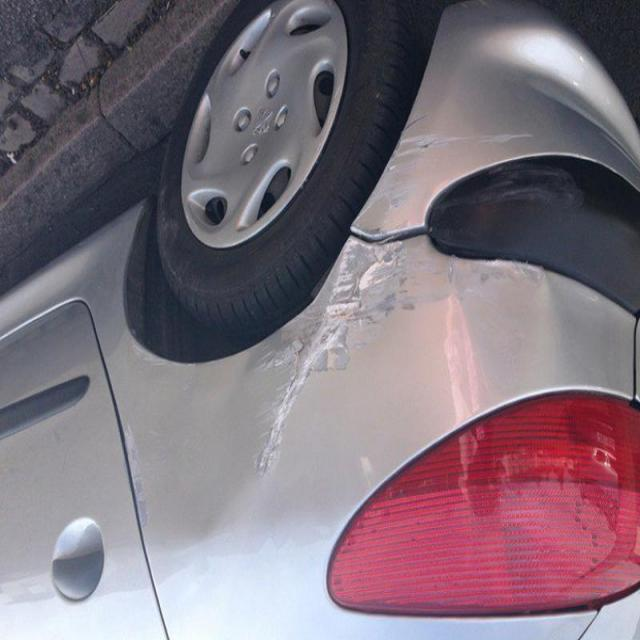scratch: (213, 214, 419, 519)
